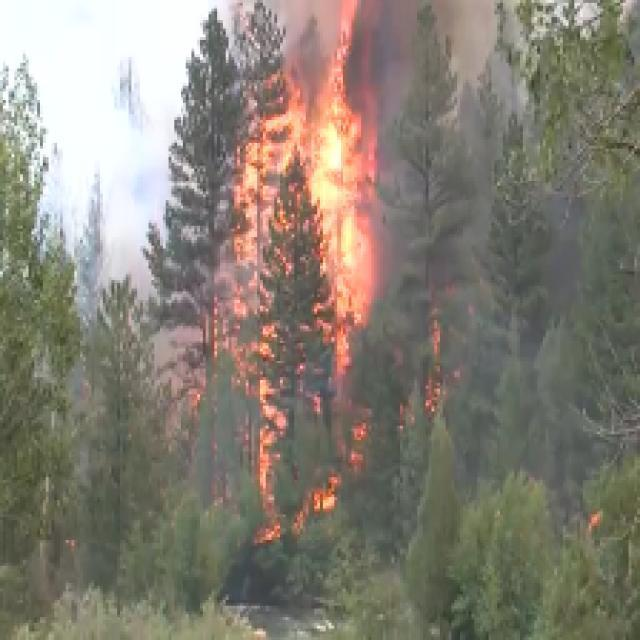Fire: (245, 25, 378, 519)
